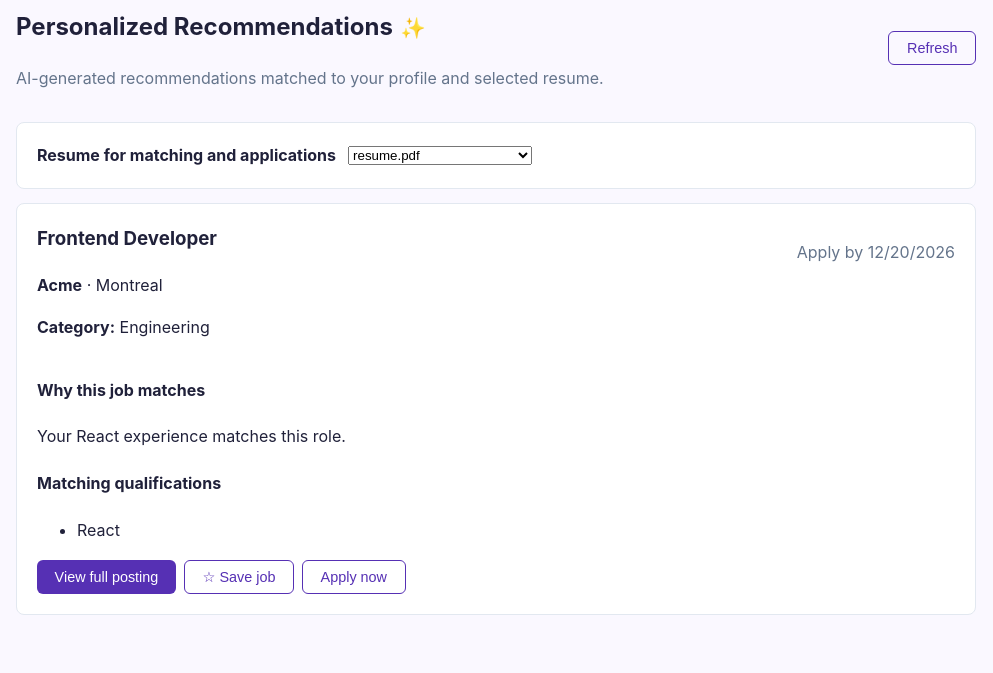
Test: Recommendations page states › errors › shows an error when applying to a recommended job fails
The image size is (993, 673).
Check: the heading "Frontend Developer" is shown, box [37,224,217,254]
Click the button "Apply now". click: (354, 577)
box: [302,560,406,594]
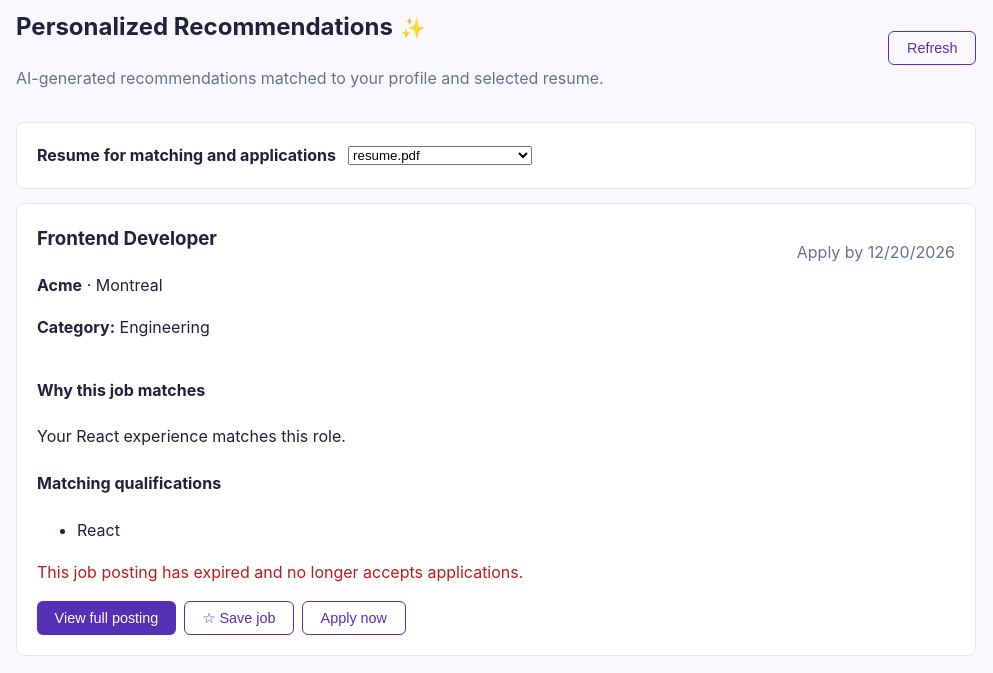
Check: the message reads "This job posting has expired and no longer accepts applications.", box [37,562,523,582]
